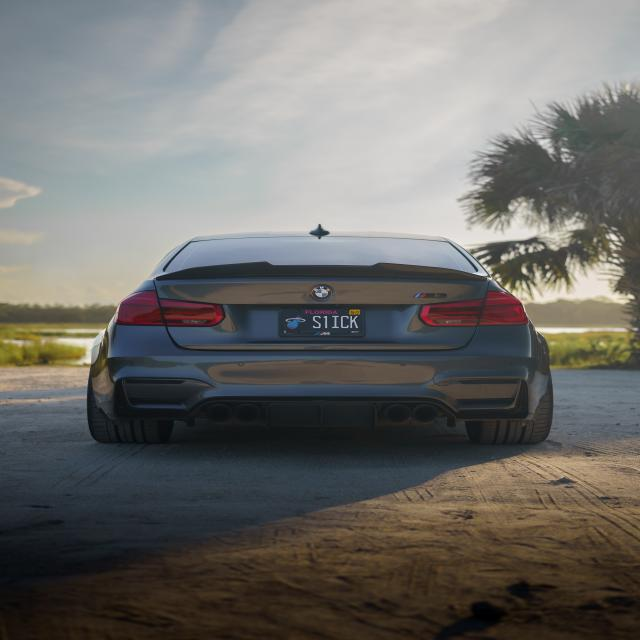Plat: (277, 304, 368, 338)
